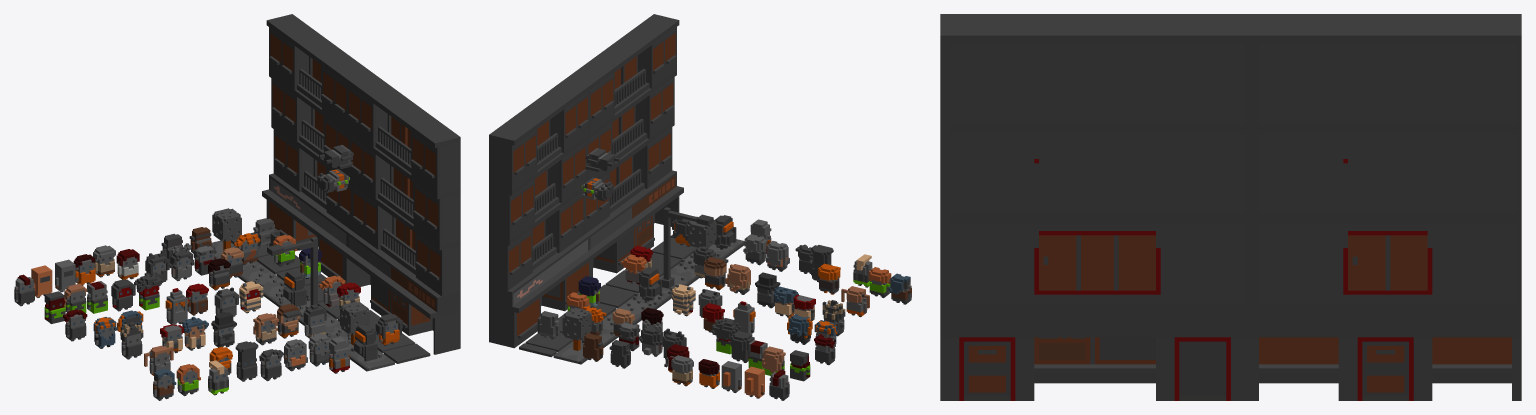
The model's file is scene_parade.obj.
3 views of the same model, side by side, from view 1: azimuth 30°, elevation 25°; view 2: azimuth 150°, elevation 25°; view 3: azimuth 270°, elevation 25° (orthographic). The views are drawn at different scales.
Size of the model in its own units: 124 by 86 by 124.
